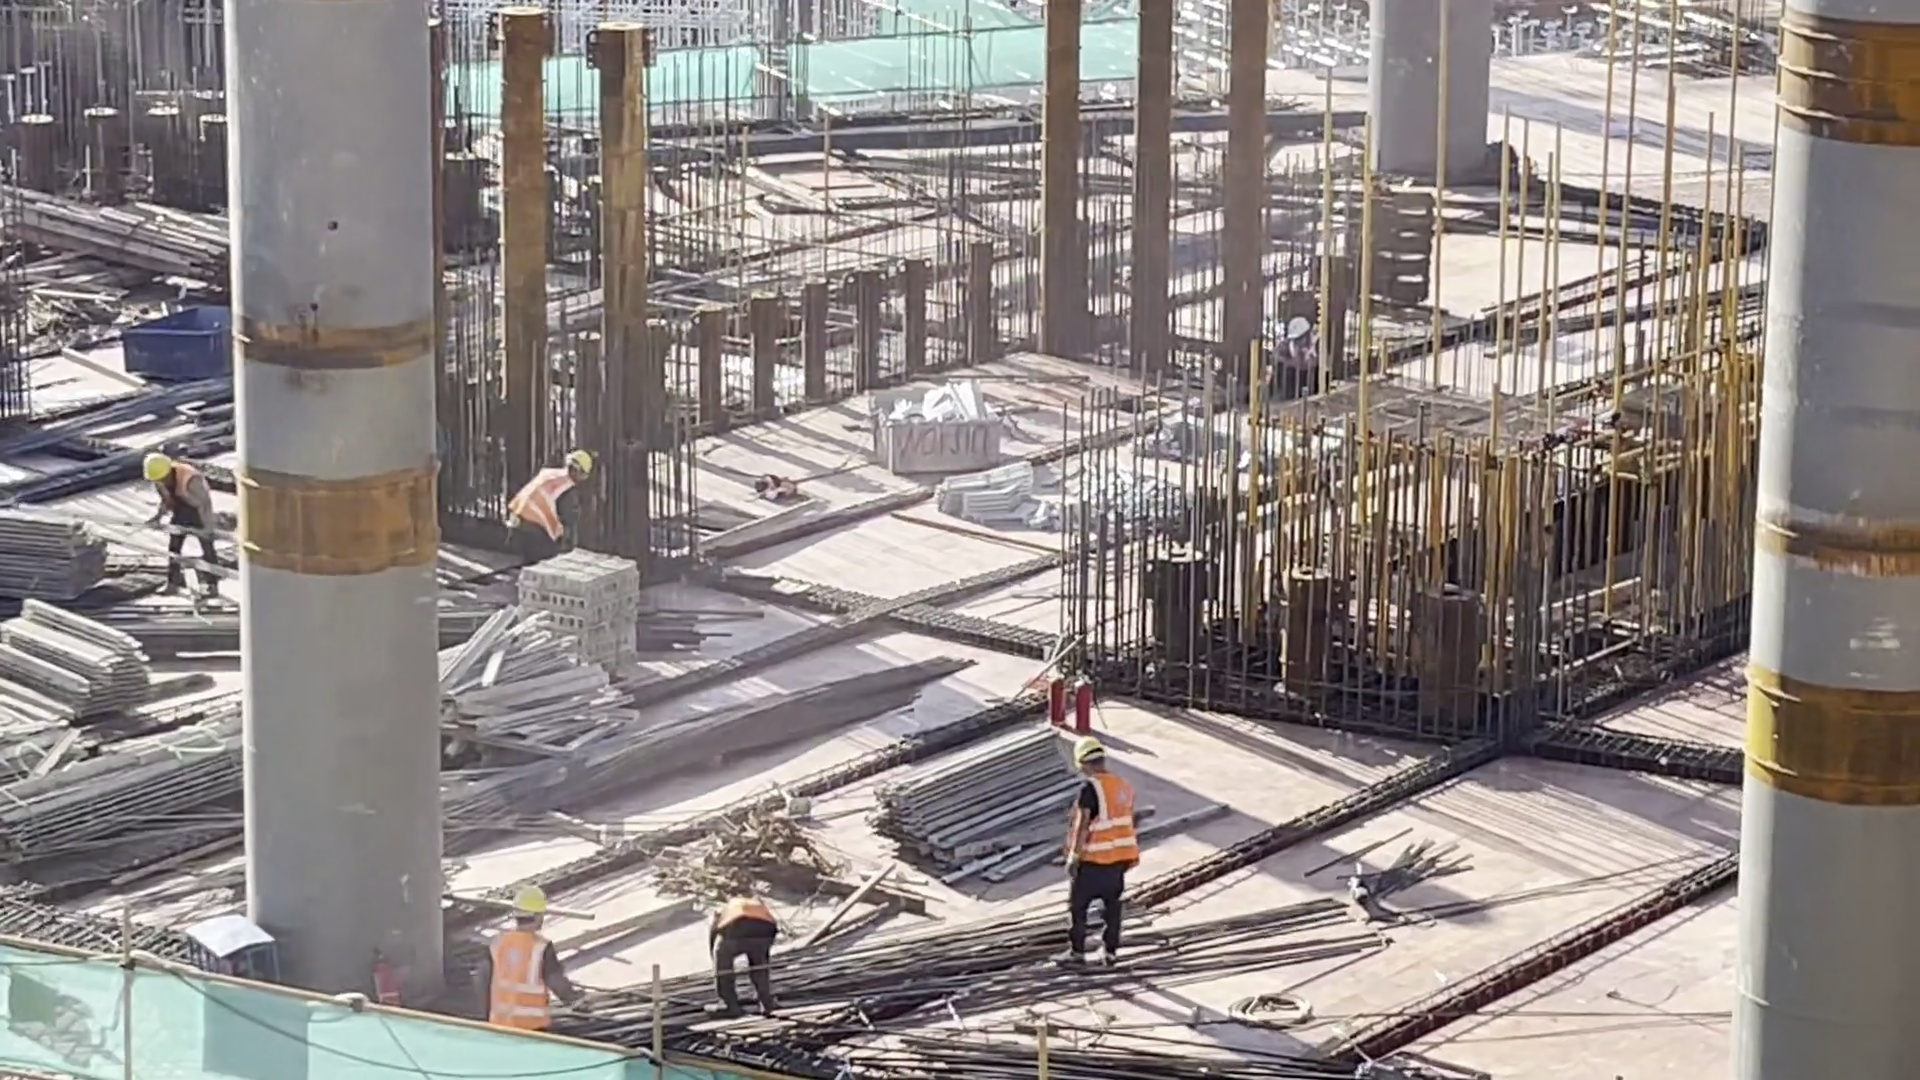helmet: (566, 447, 601, 491), (514, 881, 554, 912), (149, 447, 178, 481), (1081, 742, 1109, 766), (1279, 317, 1304, 334)
hopper: (873, 392, 1029, 459), (139, 309, 241, 381)
person: (468, 875, 553, 1060), (1084, 741, 1139, 955), (141, 458, 223, 583), (708, 876, 778, 1010), (514, 448, 589, 538), (1274, 310, 1339, 395)
rebar: (4, 600, 744, 676), (778, 896, 1309, 981), (519, 686, 944, 781), (28, 375, 261, 441), (1509, 292, 1714, 339)
vest: (1088, 769, 1129, 872), (496, 937, 539, 1022), (504, 469, 566, 524), (173, 466, 209, 521), (724, 894, 774, 932), (1276, 336, 1323, 371)
wood: (41, 206, 199, 286)
